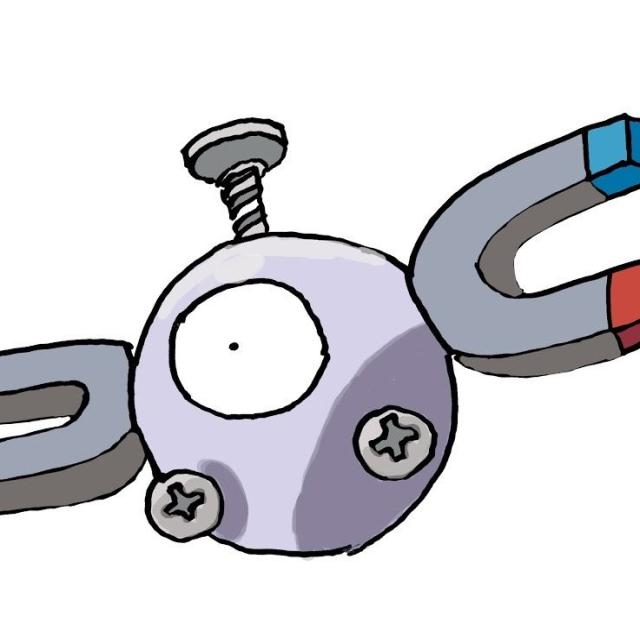Magnemite: (0, 128, 632, 574)
